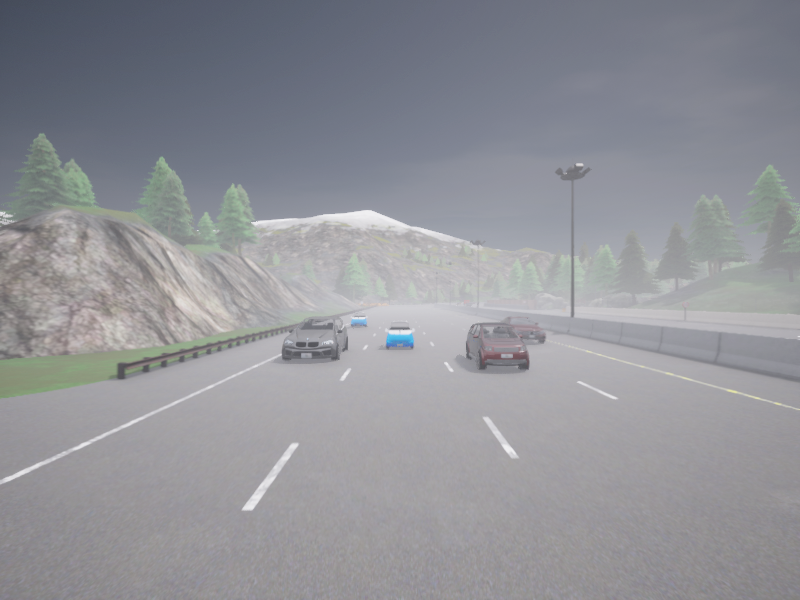vehicle: (465, 322, 528, 370), (282, 316, 348, 360), (501, 316, 546, 343), (385, 321, 414, 349), (350, 312, 367, 327), (464, 300, 469, 305), (465, 303, 471, 306), (457, 302, 461, 304), (472, 302, 476, 303)
